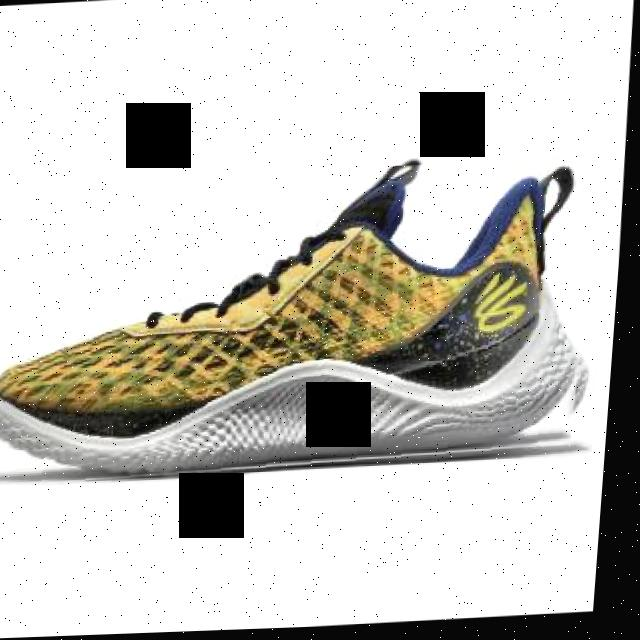shoe: (0, 159, 609, 488)
